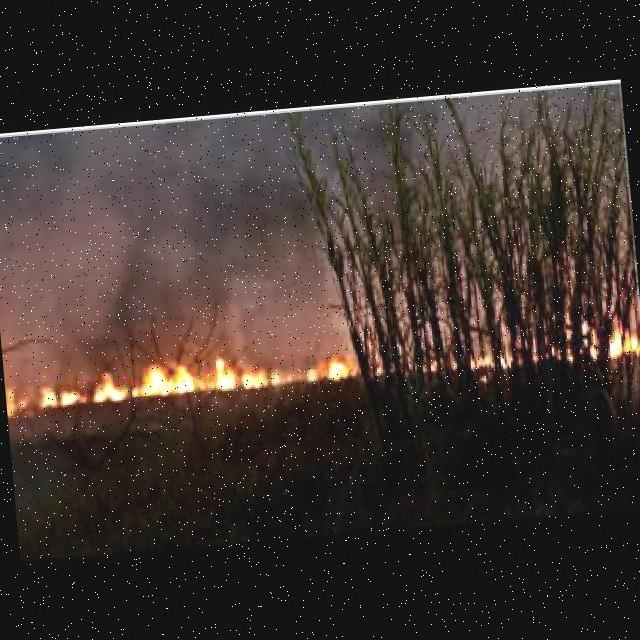Fire: (40, 346, 354, 405), (581, 316, 640, 357), (7, 384, 27, 409)
